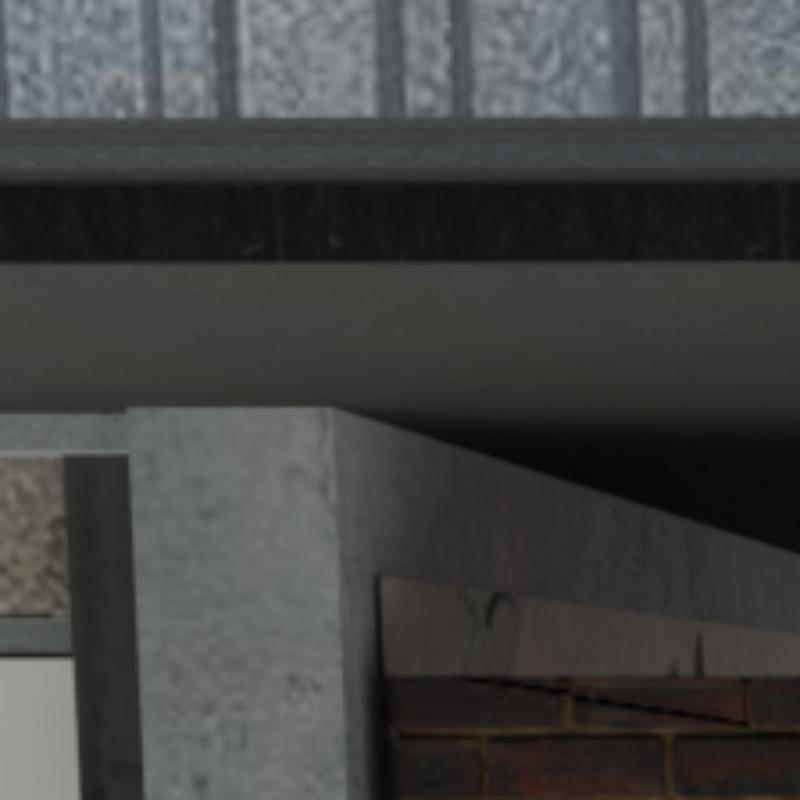pothole: (454, 675, 750, 729)
